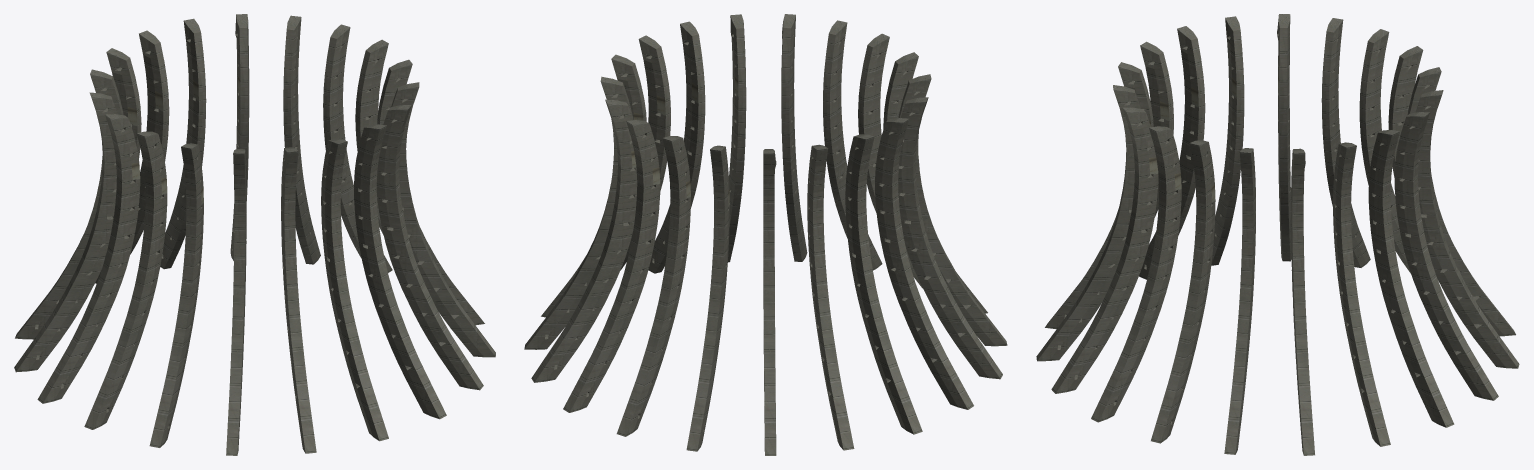
Rendered from tall_arch.glb.
The picture shows the model from 3 angles, left to right: view 1: azimuth 30°, elevation 25°; view 2: azimuth 150°, elevation 25°; view 3: azimuth 270°, elevation 25°; orthographic projection.
Parts seen in each view (by area): view 1: mesh_51_Mesh_tall_arch_subset_0, mesh_51_Mesh_tall_arch_subset_1; view 2: mesh_51_Mesh_tall_arch_subset_0, mesh_51_Mesh_tall_arch_subset_1; view 3: mesh_51_Mesh_tall_arch_subset_0, mesh_51_Mesh_tall_arch_subset_1.
Part boxes in pixels (<box>): mesh_51_Mesh_tall_arch_subset_0: <box>14,14,495,455</box>; mesh_51_Mesh_tall_arch_subset_1: <box>127,75,240,204</box>; mesh_51_Mesh_tall_arch_subset_0: <box>524,14,1007,455</box>; mesh_51_Mesh_tall_arch_subset_1: <box>631,75,781,206</box>; mesh_51_Mesh_tall_arch_subset_0: <box>1036,14,1519,455</box>; mesh_51_Mesh_tall_arch_subset_1: <box>1149,74,1279,202</box>.
Size of the model in its own units: 22.49 by 13.88 by 22.49.
Materials: 2 (2 with a texture image).
